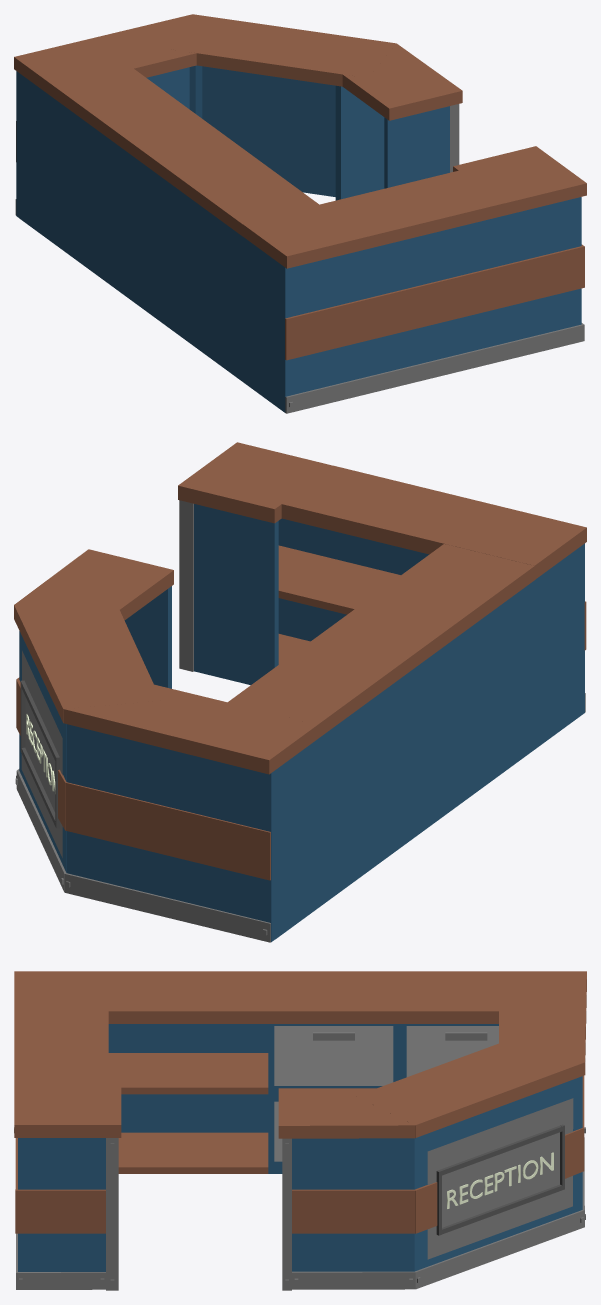
Rendered from reg_table.fbx.
3 views of the same model, one above another, from view 1: azimuth 30°, elevation 25°; view 2: azimuth 150°, elevation 25°; view 3: azimuth 270°, elevation 25° (orthographic). The views are drawn at different scales.
Visible parts, largest first — view 1: reg_table.037; view 2: reg_table.037; view 3: reg_table.037.
Boxes of the visible parts, x1,y1,x2,y2 form: reg_table.037: [14, 14, 586, 413]; reg_table.037: [14, 442, 586, 942]; reg_table.037: [14, 971, 586, 1290].
Bounding box in the file's own units: 11.87 × 5.94 × 18.59.
